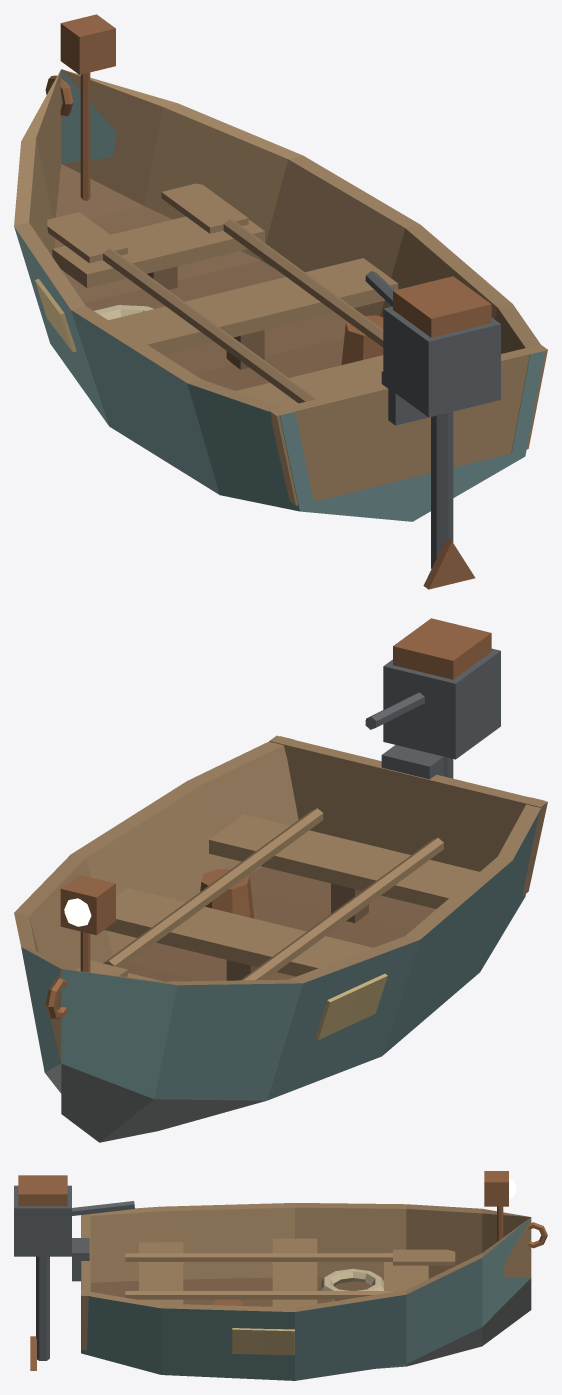
File: dinghy.glb
3 renders of one model, top to bottom at view 1: azimuth 30°, elevation 25°; view 2: azimuth 150°, elevation 25°; view 3: azimuth 270°, elevation 25°, orthographic. The views are drawn at different scales.
Visible parts, largest first — view 1: Hull, Transom, Bench.001, MotorHead, Bench.002, MotorCap, Oar.001, MotorShaft, Bench, Oar, BowLampHousing, OarBlade (+7 smaller); view 2: Hull, Transom, Bench, MotorHead, Bench.001, MotorCap, Oar, Oar.001, BowLampHousing, Patch2, MotorClamp, Bucket (+2 smaller); view 3: Hull, MotorHead, Bench.001, Oar.001, Oar, Bench, Patch1, MotorCap, MotorShaft, OarBlade.001, Transom, Bench.002 (+5 smaller).
Part boxes in pixels (<box>): Hull: <box>14,69,544,521</box>; Transom: <box>269,344,547,505</box>; Bench.001: <box>108,258,398,354</box>; MotorHead: <box>383,306,500,417</box>; Bench.002: <box>52,216,264,288</box>; MotorCap: <box>393,276,491,337</box>; Oar.001: <box>103,248,316,403</box>; MotorShaft: <box>431,411,453,568</box>; Bench: <box>236,355,383,407</box>; Oar: <box>223,219,383,347</box>; BowLampHousing: <box>60,14,115,74</box>; OarBlade: <box>161,183,248,233</box>; Hull: <box>14,736,544,1142</box>; Transom: <box>269,735,547,895</box>; Bench: <box>209,814,479,908</box>; MotorHead: <box>383,648,500,759</box>; Bench.001: <box>104,888,373,976</box>; MotorCap: <box>393,618,491,679</box>; Oar: <box>103,808,323,967</box>; Oar.001: <box>241,838,443,980</box>; BowLampHousing: <box>60,875,115,935</box>; Patch2: <box>315,973,387,1040</box>; MotorClamp: <box>381,745,443,779</box>; Bucket: <box>200,868,254,918</box>; Hull: <box>81,1203,531,1380</box>; MotorHead: <box>14,1185,71,1256</box>; Bench.001: <box>272,1238,317,1307</box>; Oar.001: <box>125,1253,392,1261</box>; Oar: <box>125,1291,392,1299</box>; Bench: <box>139,1242,183,1304</box>; Patch1: <box>232,1328,294,1355</box>; MotorCap: <box>18,1175,67,1206</box>; MotorShaft: <box>36,1256,49,1360</box>; OarBlade.001: <box>393,1249,455,1265</box>; Transom: <box>81,1214,90,1350</box>; Bench.002: <box>384,1253,428,1290</box>.
Size of the model in its own units: 0.4756 by 0.4018 by 0.982.
